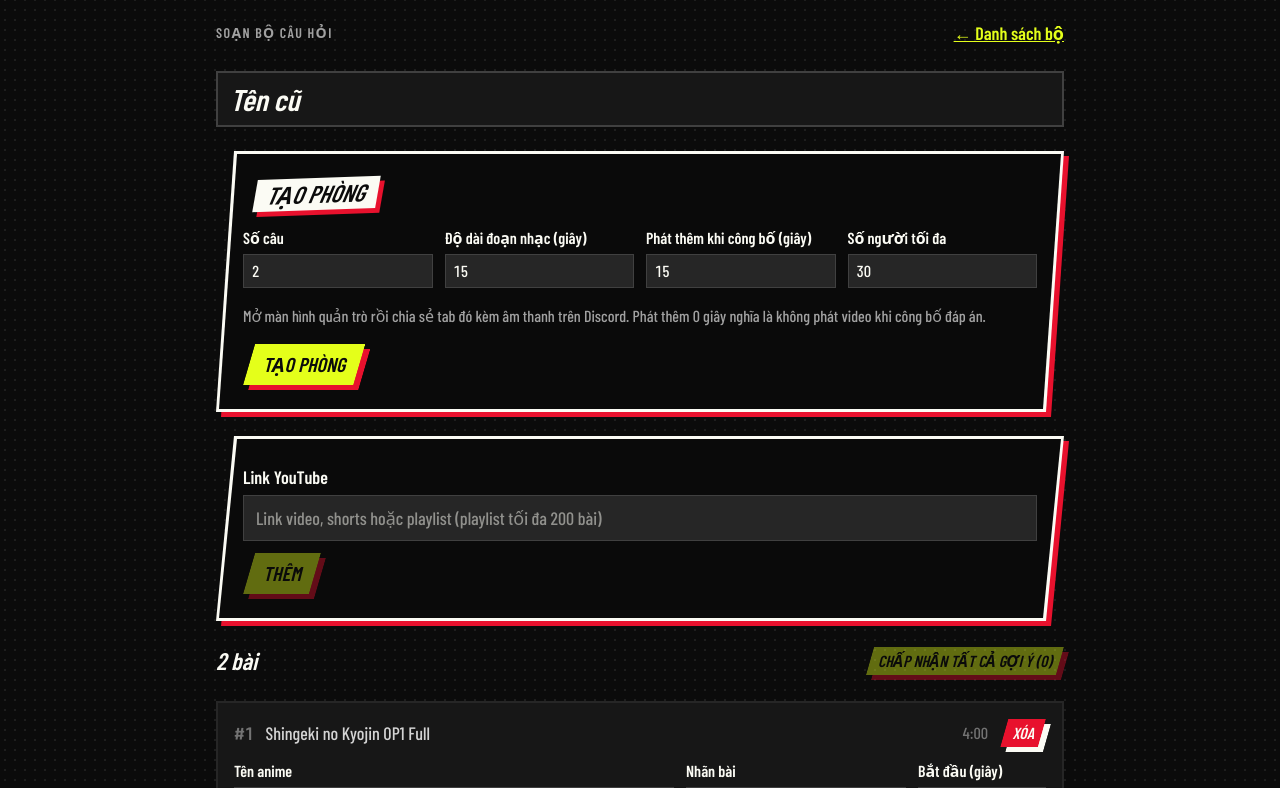
Test case: SetEditor › saves renames, fixed start times and deletions
Replace the text in the field named "Tên bộ câu hỏi" with "Tên mới" at point(640, 99), box [216,71,1064,127]
(page scrolled)
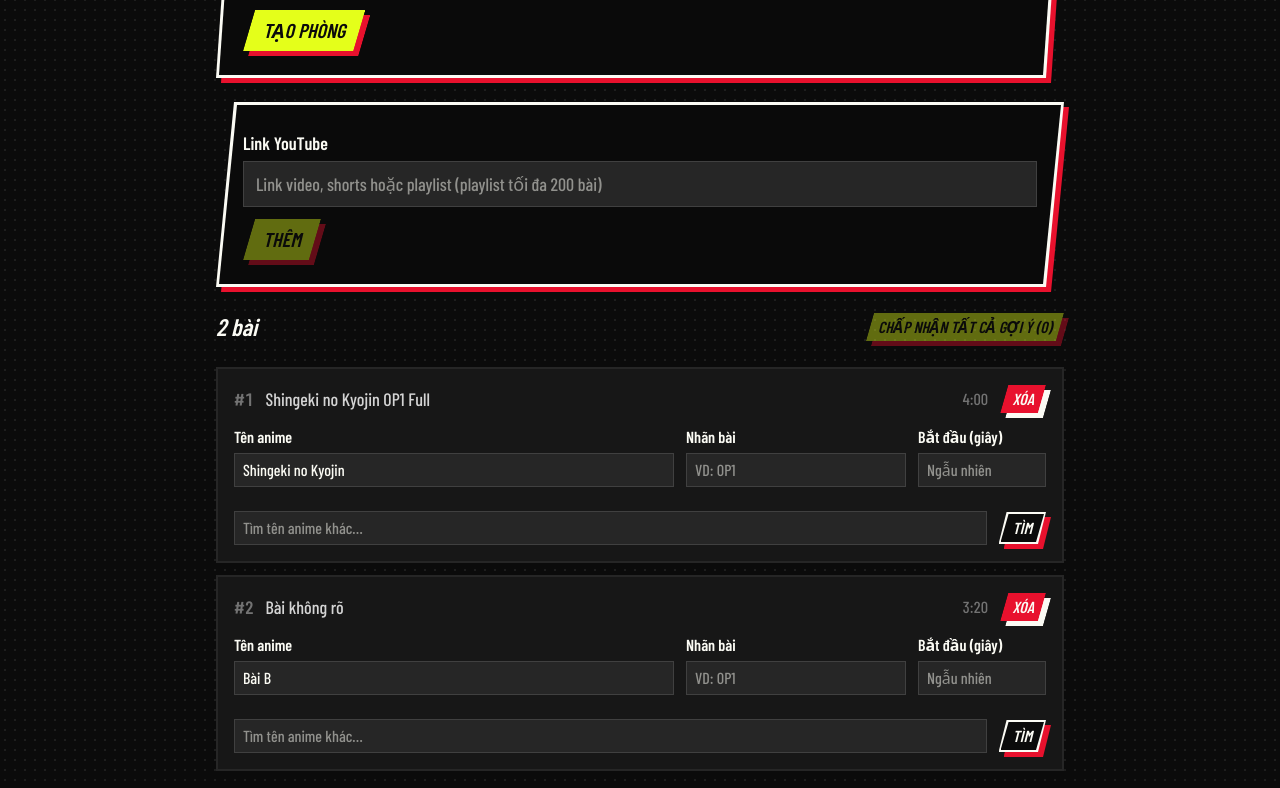
Type "42" into the number field labelled "Bắt đầu (giây)" below "4:00" at point(982, 470), box [918,453,1046,487]
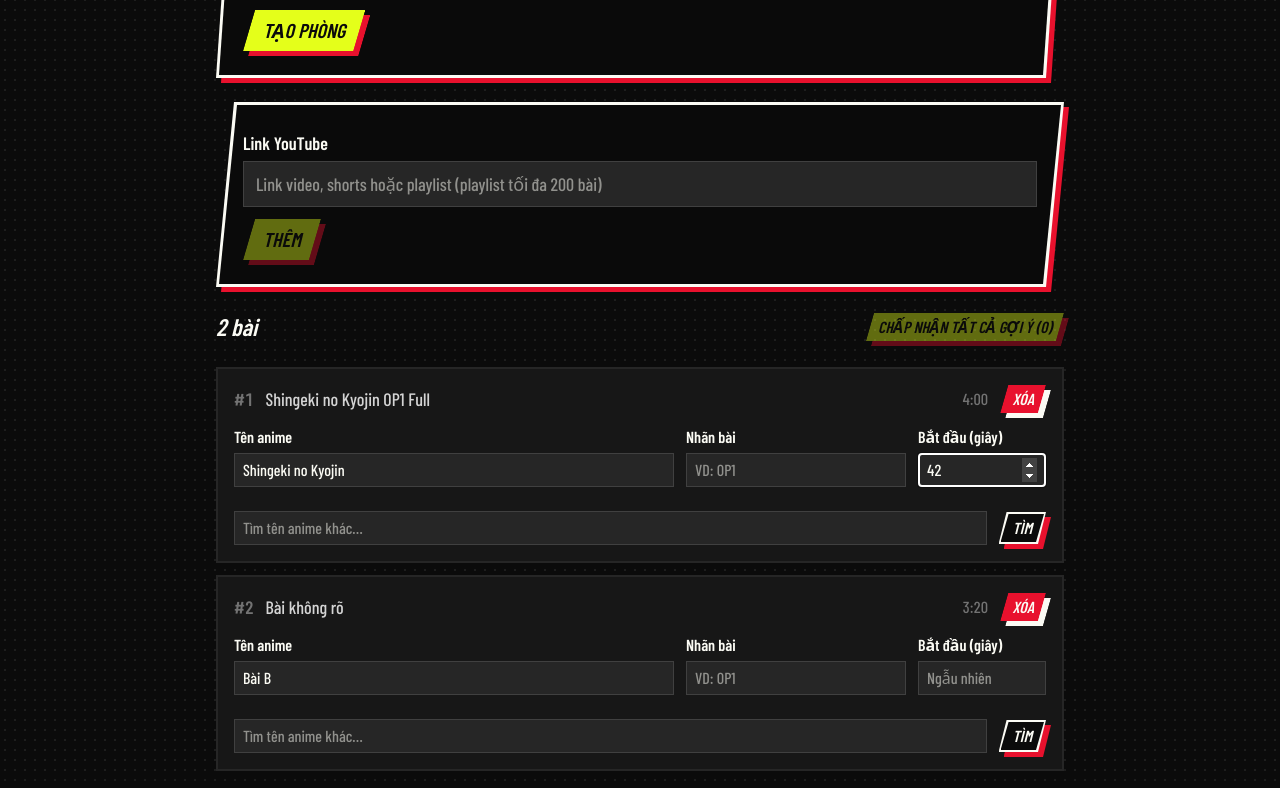
Clear the number field labelled "Bắt đầu (giây)" below "4:00" at point(982, 470), box [918,453,1046,487]
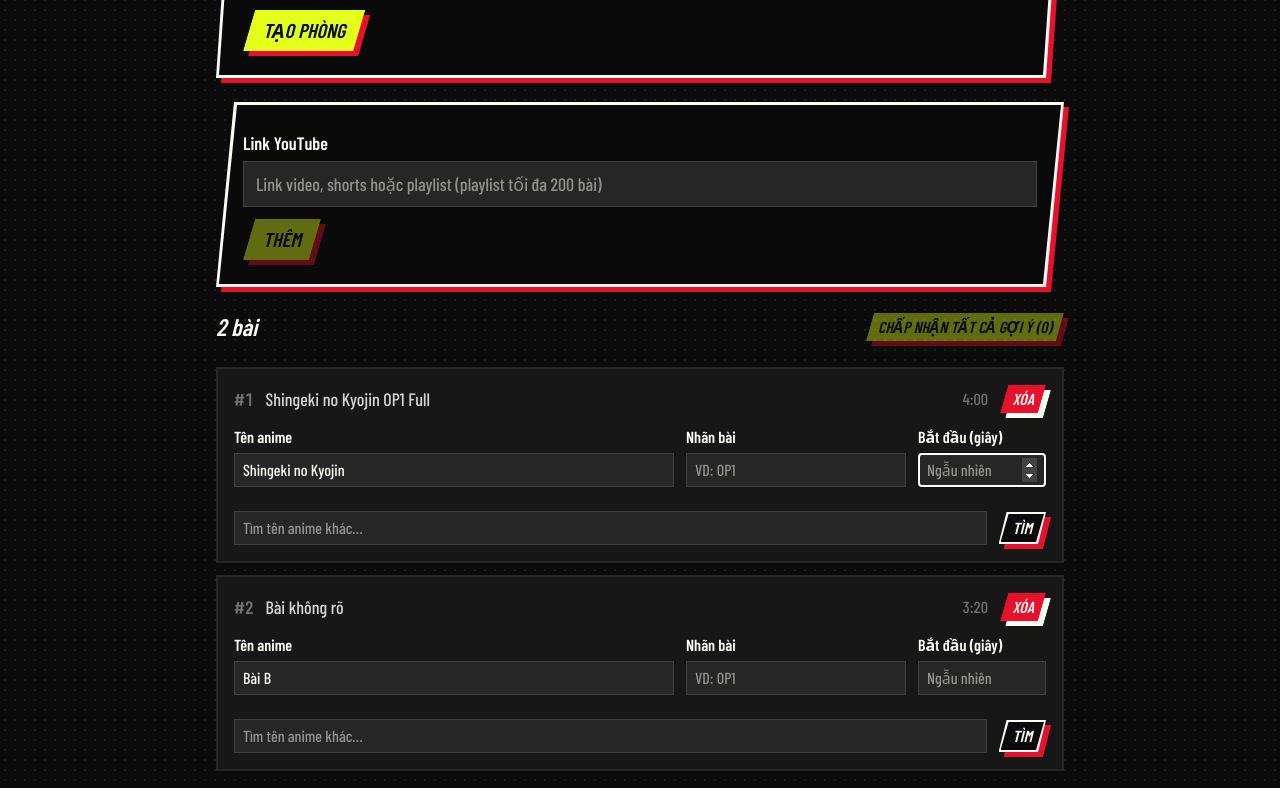
Click the button with aria-label "Xóa bài 2" at point(1023, 607), box [1000,593,1046,621]
(page scrolled)
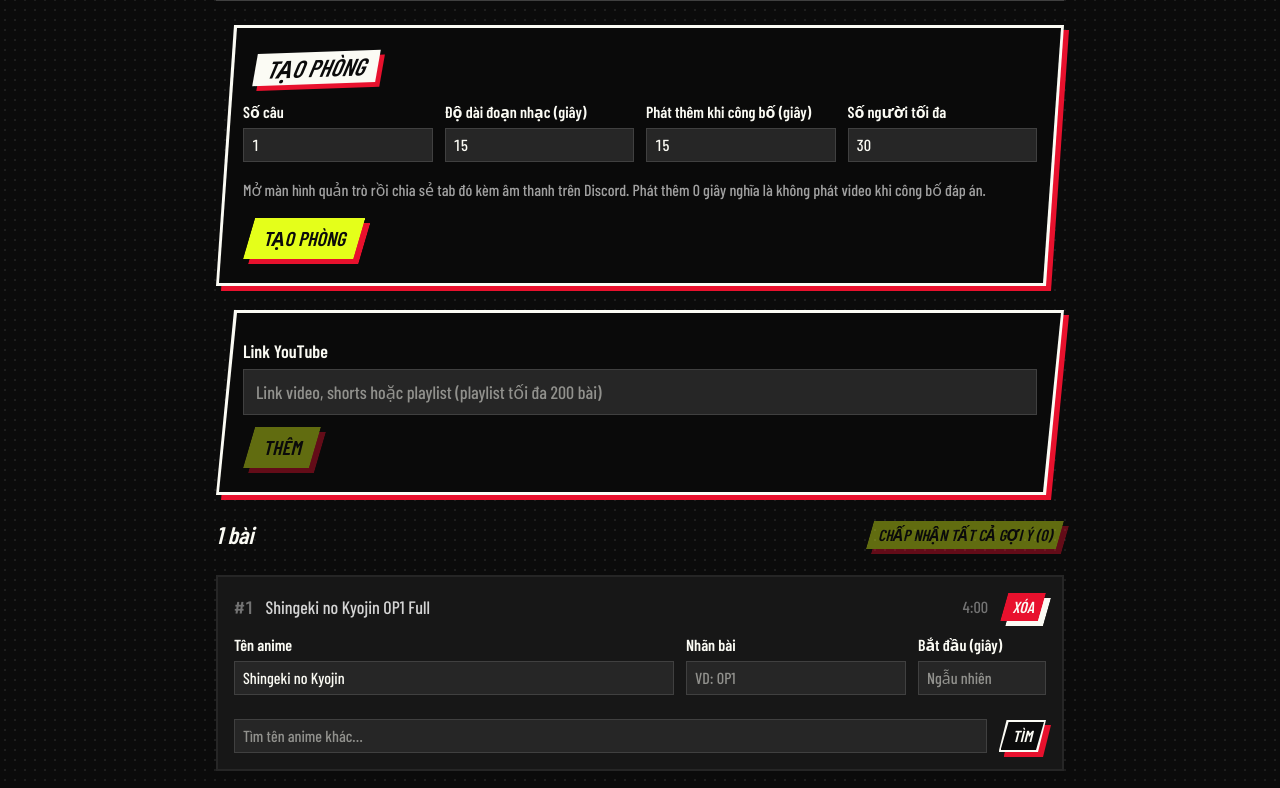
Expected: the number of list items is 1, [216,575,1064,771]
